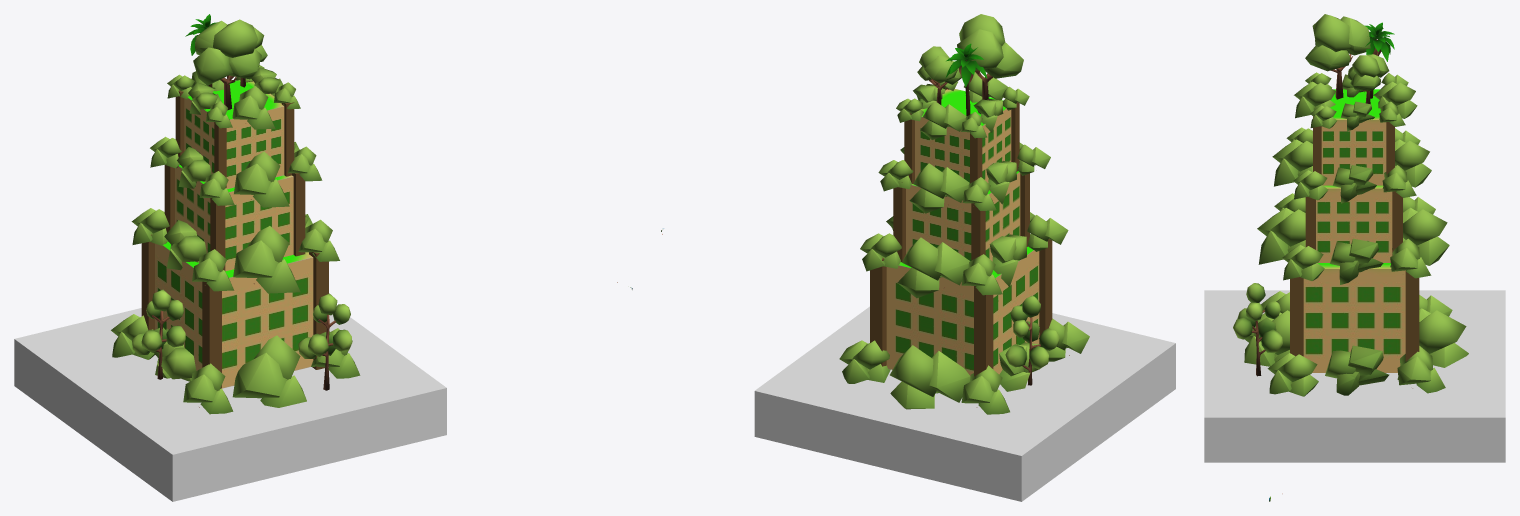
File: gedung_tanaman_reduced.gltf
3 views of the same model, side by side, from view 1: azimuth 30°, elevation 25°; view 2: azimuth 150°, elevation 25°; view 3: azimuth 270°, elevation 25° (orthographic). The views are drawn at different scales.
Visible parts, largest first — view 1: Cube.006, Cube, Forest-Toon.004, Forest-Toon.003, Cube.001, Cube.002, Forest-Toon.002, Forest-Toon.001, Forest-Toon.007, Forest-Toon.751, Forest-Toon.005; view 2: Cube.006, Cube, Forest-Toon.004, Forest-Toon.003, Cube.001, Cube.002, Forest-Toon.002, Forest-Toon.001, Forest-Toon.007, Forest-Toon.005, Forest-Toon.008, Forest-Toon.009; view 3: Cube.006, Cube, Forest-Toon.004, Forest-Toon.003, Cube.001, Forest-Toon.002, Cube.002, Forest-Toon.001, Forest-Toon.007, Forest-Toon.751, Forest-Toon.008, Forest-Toon.009.
Boxes of the visible parts, x1,y1,x2,y2 form: Cube.006: (14,308,446,501); Cube: (141,234,328,388); Forest-Toon.004: (111,314,360,414); Forest-Toon.003: (131,208,339,293); Cube.001: (164,165,305,271); Cube.002: (175,80,294,189); Forest-Toon.002: (150,136,322,207); Forest-Toon.001: (167,65,300,129); Forest-Toon.007: (193,19,261,110); Forest-Toon.751: (298,293,352,390); Forest-Toon.005: (132,289,185,379); Cube.006: (754,306,1175,501); Cube: (870,239,1052,376); Forest-Toon.004: (839,318,1089,414); Forest-Toon.003: (860,212,1068,298); Cube.001: (893,167,1029,261); Cube.002: (904,88,1019,183); Forest-Toon.002: (878,142,1050,213); Forest-Toon.001: (896,72,1029,139); Forest-Toon.007: (957,14,1023,99); Forest-Toon.005: (1005,296,1059,385); Forest-Toon.008: (917,46,961,104); Forest-Toon.009: (945,43,987,115); Cube.006: (1204,290,1505,462); Cube: (1290,263,1419,372); Forest-Toon.004: (1244,291,1468,396); Forest-Toon.003: (1257,193,1449,284); Cube.001: (1305,185,1402,262); Forest-Toon.002: (1272,127,1431,203); Cube.002: (1313,89,1394,185); Forest-Toon.001: (1294,72,1417,131); Forest-Toon.007: (1305,14,1370,99); Forest-Toon.751: (1233,283,1282,376); Forest-Toon.008: (1347,54,1389,104); Forest-Toon.009: (1365,22,1394,98).
Size of the model in its own units: 11.62 by 9.01 by 6.45.
Materials: 3 (2 with a texture image).
